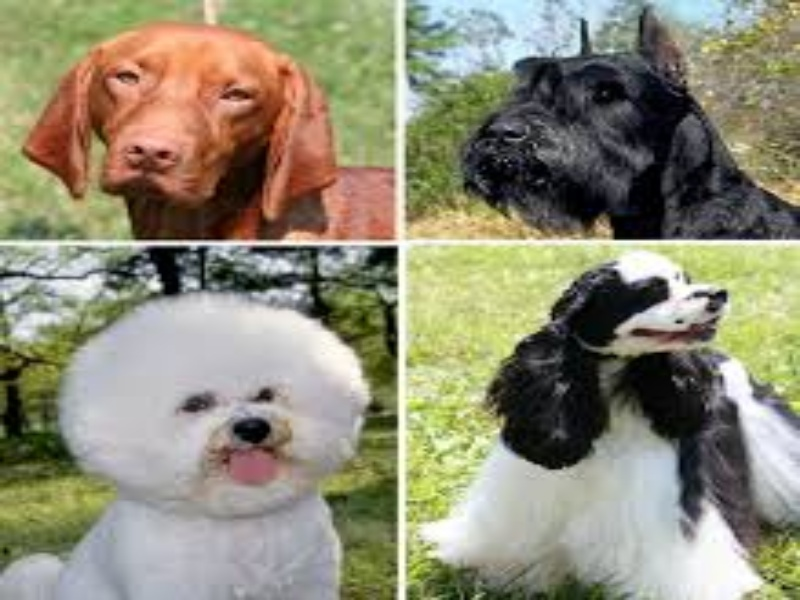dog: (430, 253, 795, 590), (29, 259, 386, 594), (22, 16, 378, 242), (436, 13, 788, 231)
